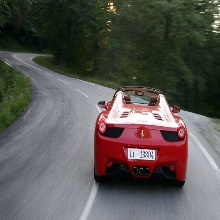no damage: (94, 86, 189, 190)
